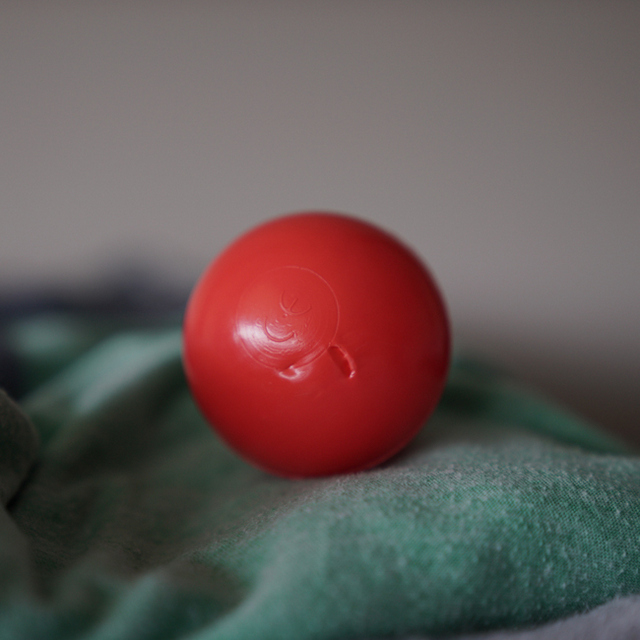Ball: (183, 214, 452, 476)
